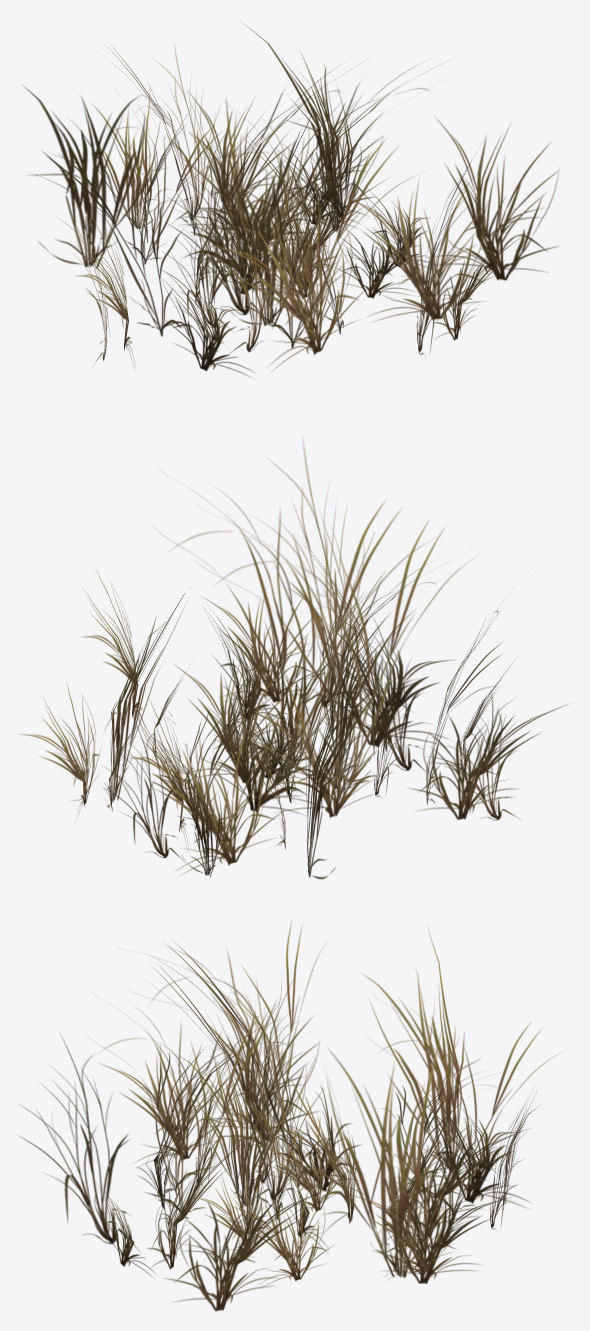
The model's file is grass-patch-a.glb.
3 views of the same model, one above another, from view 1: azimuth 30°, elevation 25°; view 2: azimuth 150°, elevation 25°; view 3: azimuth 270°, elevation 25° (orthographic). The views are drawn at different scales.
Parts seen in each view (by area): view 1: grasspatch1; view 2: grasspatch1; view 3: grasspatch1.
Boxes of the visible parts, x1,y1,x2,y2 form: grasspatch1: (23, 23, 559, 377); grasspatch1: (19, 442, 567, 879); grasspatch1: (18, 922, 557, 1311).
Size of the model in its own units: 236 by 126 by 239.
Materials: 1 (1 with a texture image).
